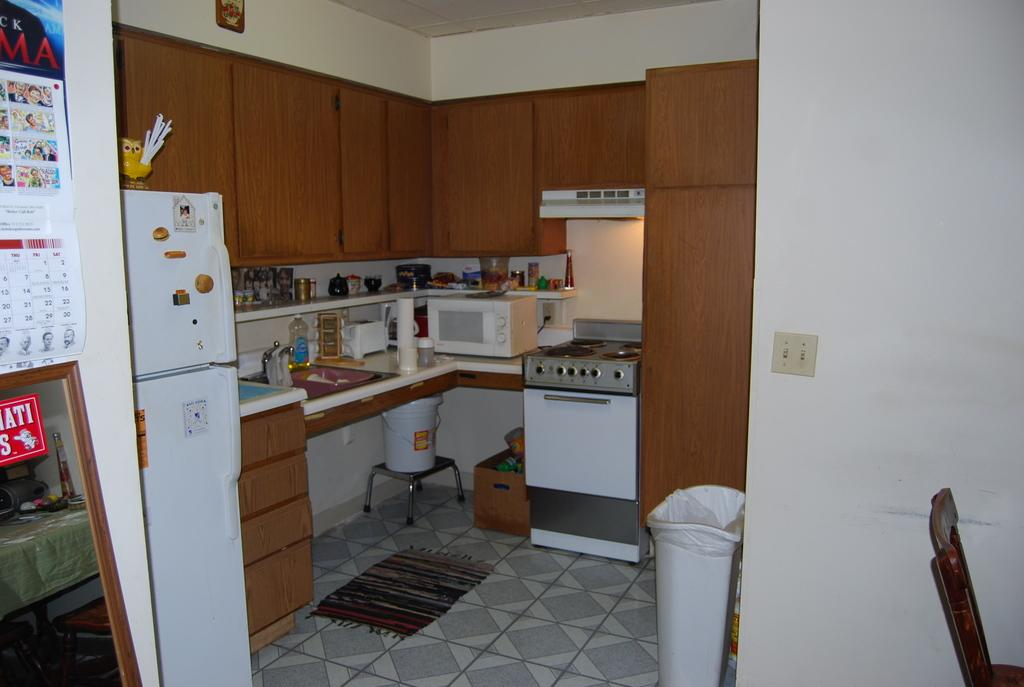cabinet_door: (650, 206, 762, 471), (242, 73, 334, 246), (128, 47, 230, 186), (446, 113, 534, 244), (338, 94, 388, 248), (244, 552, 310, 600), (246, 508, 312, 543), (250, 421, 306, 453), (250, 463, 304, 495)
handle: (211, 368, 253, 508), (204, 234, 240, 363), (540, 389, 612, 411)
